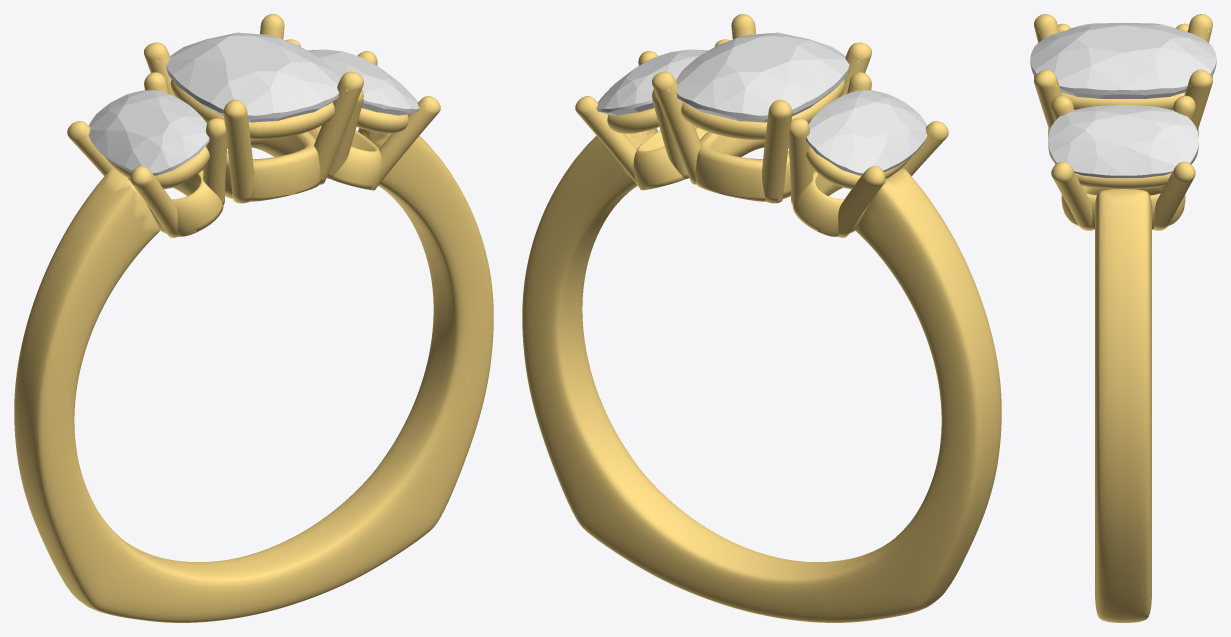
Rendered from diamond-cushion-yellowgold-4prong-europeanshank-3stone.glb.
The picture shows the model from 3 angles, left to right: view 1: azimuth 30°, elevation 25°; view 2: azimuth 150°, elevation 25°; view 3: azimuth 270°, elevation 25°; orthographic projection.
Parts seen in each view (by area): view 1: metal, stone.003, side.006, side.007; view 2: metal, stone.003, side.006, side.007; view 3: metal, stone.003, side.007, side.006.
Boxes of the visible parts, box(x1,y1,x2,y2) form: metal: box(14, 14, 493, 622); stone.003: box(166, 32, 339, 122); side.006: box(88, 90, 209, 175); side.007: box(307, 49, 419, 115); metal: box(522, 14, 1001, 622); stone.003: box(676, 32, 849, 122); side.006: box(806, 90, 927, 175); side.007: box(596, 49, 708, 115); metal: box(1034, 14, 1212, 622); stone.003: box(1030, 25, 1216, 98); side.007: box(1048, 104, 1198, 178); side.006: box(1066, 23, 1180, 30).
Size of the model in its own units: 20.1 by 23.04 by 7.15.
